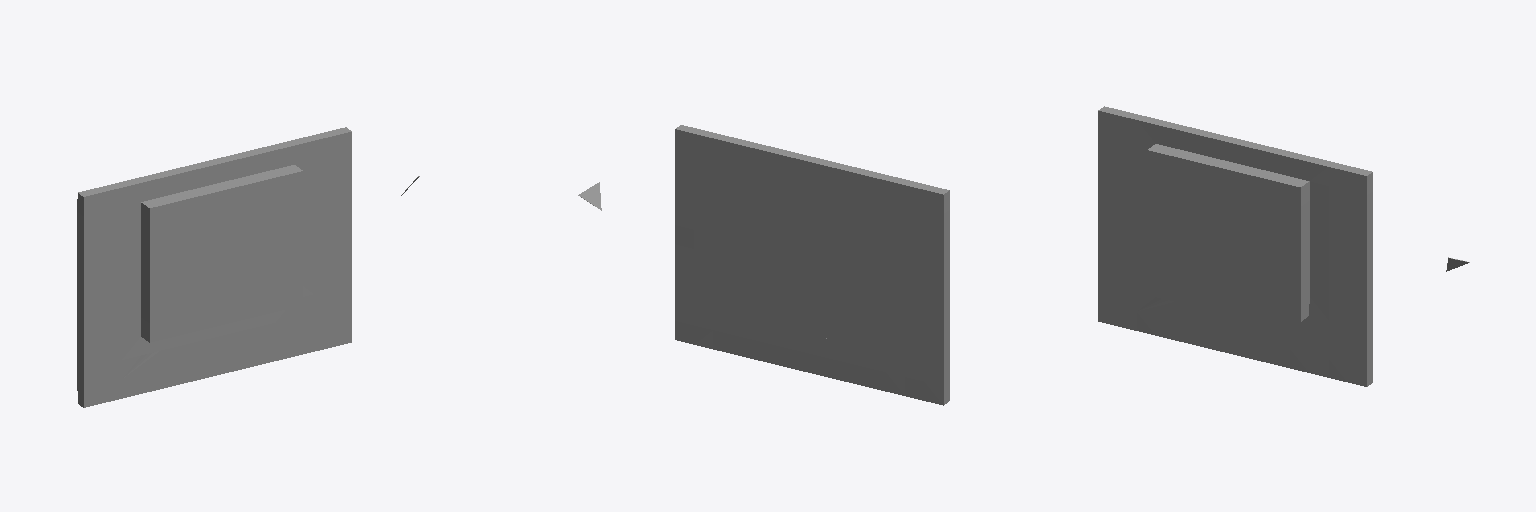
The model's file is 3ypworld2.obj.
3 views of the same model, side by side, from view 1: azimuth 30°, elevation 25°; view 2: azimuth 150°, elevation 25°; view 3: azimuth 330°, elevation 25° (orthographic).
Parts seen in each view (by area): view 1: Walls_Cube_Ceiling, Walls_Cube_WhiteWalkBrick, Walls_Cube_InteriorWall, Walls_Cube_Default; view 2: Walls_Cube_FloorStoneTiles, Walls_Cube_WoodFloorCorridoor, Walls_Cube_InteriorWall; view 3: Walls_Cube_Ceiling, Walls_Cube_WhiteWalkBrick, Walls_Cube_External, Walls_Cube_InteriorWall.
Boxes of the visible parts, x1,y1,x2,y2 form: Walls_Cube_Ceiling: [84, 132, 419, 407]; Walls_Cube_WhiteWalkBrick: [141, 165, 302, 342]; Walls_Cube_InteriorWall: [77, 137, 312, 407]; Walls_Cube_Default: [77, 250, 83, 350]; Walls_Cube_FloorStoneTiles: [675, 129, 943, 395]; Walls_Cube_WoodFloorCorridoor: [713, 138, 943, 405]; Walls_Cube_InteriorWall: [714, 134, 949, 404]; Walls_Cube_Ceiling: [1098, 111, 1469, 386]; Walls_Cube_WhiteWalkBrick: [1148, 144, 1309, 321]; Walls_Cube_External: [1329, 162, 1372, 386]; Walls_Cube_InteriorWall: [1098, 106, 1333, 166].
Bounding box in the file's own units: 106 × 60.14 × 13.64.